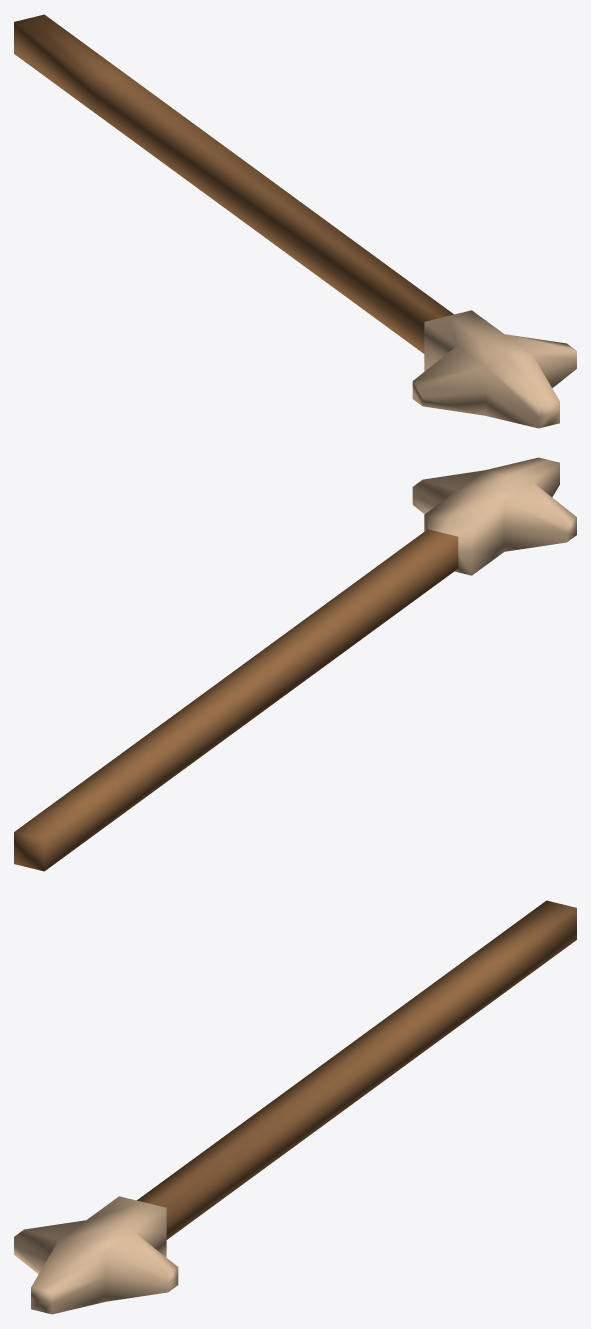
Rendered from char_000_weapon_01_sample_01_FBX.fbx.
The picture shows the model from 3 angles, top to bottom: view 1: azimuth 30°, elevation 25°; view 2: azimuth 150°, elevation 25°; view 3: azimuth 330°, elevation 25°; orthographic projection.
Visible parts, largest first — view 1: weapon_sample_01; view 2: weapon_sample_01; view 3: weapon_sample_01.
Boxes of the visible parts, box(x1,y1,x2,y2) form: weapon_sample_01: box(14, 14, 576, 428); weapon_sample_01: box(14, 457, 576, 871); weapon_sample_01: box(14, 900, 576, 1314).
Bounding box in the file's own units: 0.618 × 0.1897 × 3.61.
Materials: 1 (1 with a texture image).
